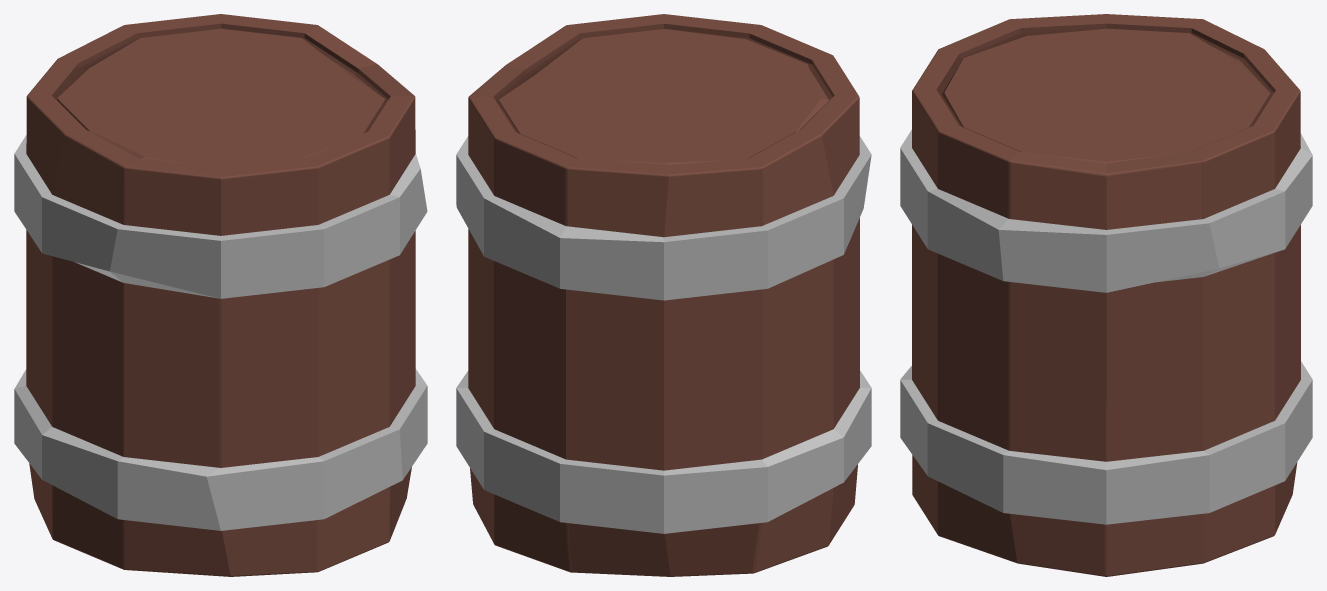
Rendered from Barrel.fbx.
The picture shows the model from 3 angles, left to right: view 1: azimuth 30°, elevation 25°; view 2: azimuth 150°, elevation 25°; view 3: azimuth 270°, elevation 25°; orthographic projection.
Visible parts, largest first — view 1: Barrel, Metaal, Barrel_Rand; view 2: Barrel, Metaal, Barrel_Rand; view 3: Barrel, Metaal, Barrel_Rand.
Boxes of the visible parts, x1,y1,x2,y2 form: Barrel: (26, 14, 415, 576); Metaal: (14, 135, 427, 530); Barrel_Rand: (54, 28, 388, 132); Barrel: (468, 14, 859, 576); Metaal: (456, 136, 871, 533); Barrel_Rand: (495, 28, 832, 133); Barrel: (912, 14, 1300, 576); Metaal: (900, 129, 1312, 524); Barrel_Rand: (938, 28, 1273, 126).
Size of the model in its own units: 212 by 230 by 212.
